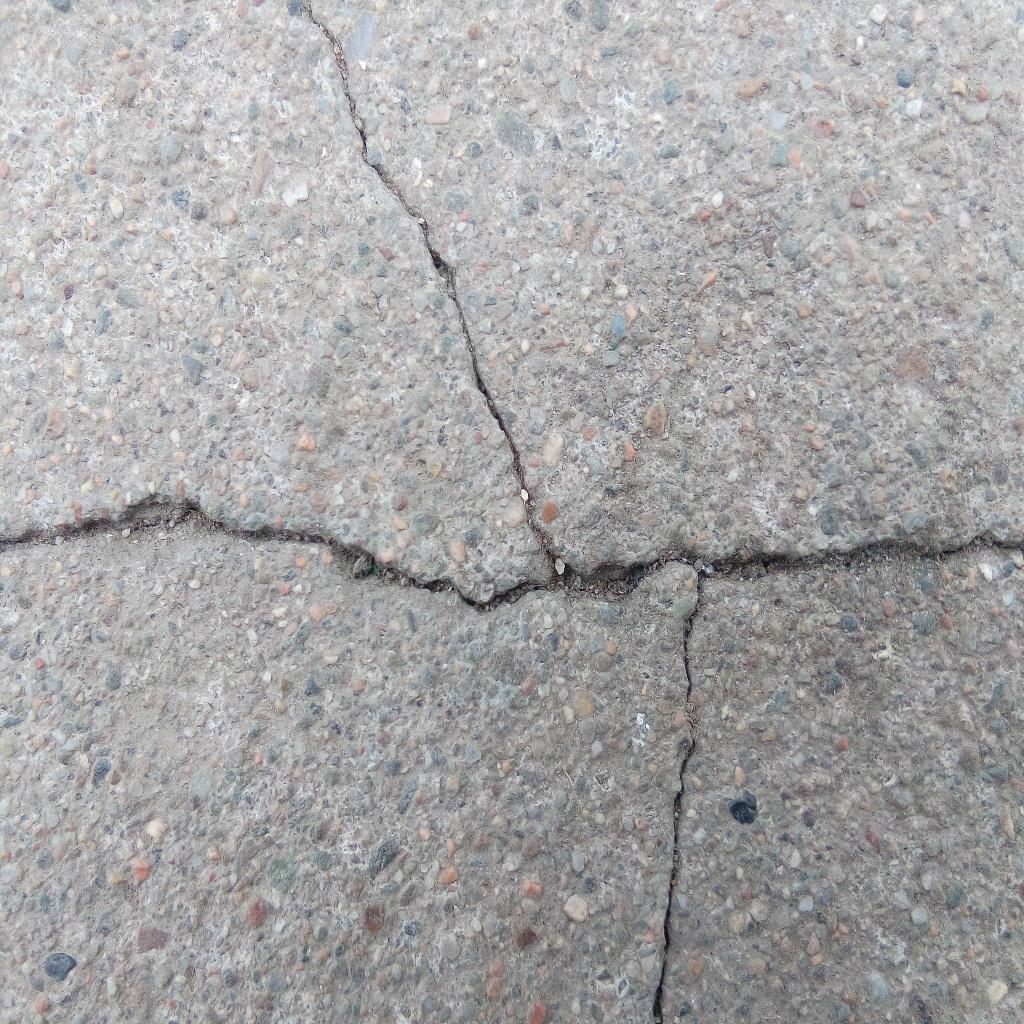Crack: (300, 1, 572, 585), (1, 488, 1024, 614), (649, 571, 706, 1024)
